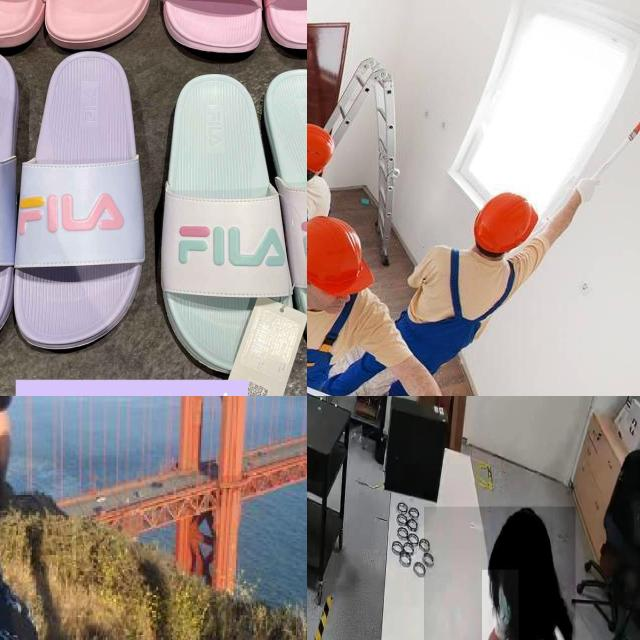Sandals: (0, 26, 157, 373), (157, 61, 307, 396)
face_mask: (481, 569, 518, 640)
hand_glove: (571, 172, 604, 204)
head_helmet: (307, 210, 376, 296), (468, 189, 540, 258), (307, 117, 336, 178)
head_nohelmet: (490, 505, 554, 568)
person: (391, 186, 549, 396), (0, 396, 118, 640), (424, 506, 576, 640), (307, 216, 384, 396), (307, 124, 345, 295)
